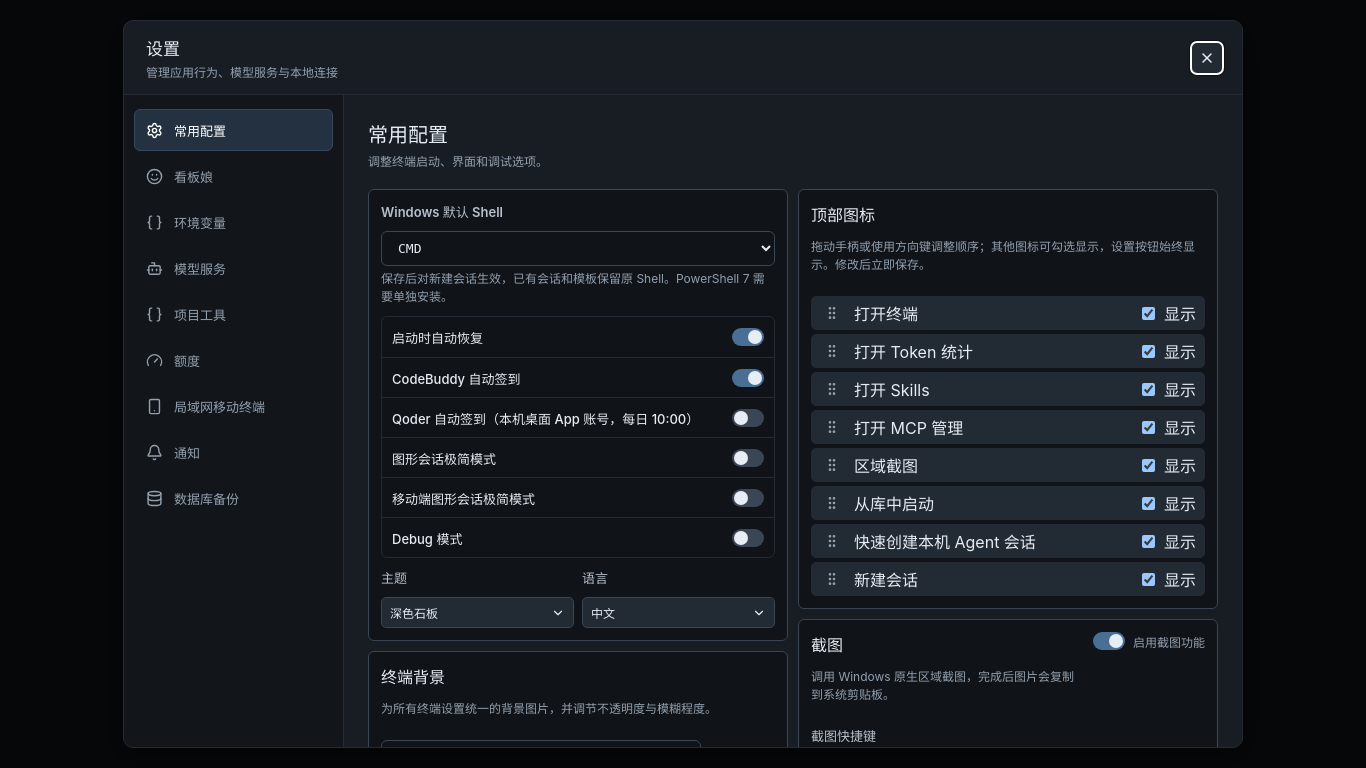
Test case: SettingsModal navigation › saves an environment draft before closing
Click the tab "环境变量": (234, 222) 134,201 -> 333,243
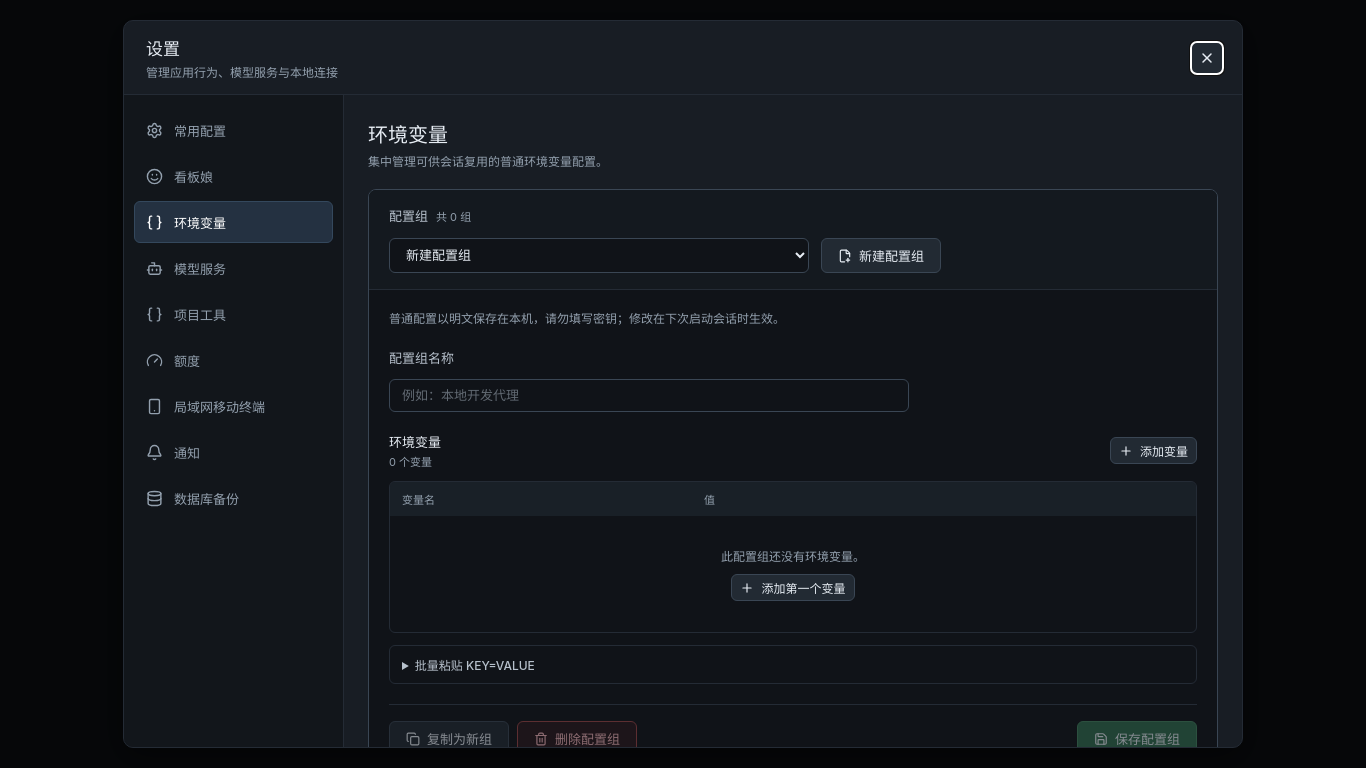
In the field labelled "配置组名称": (649, 396) 389,379 -> 909,412, type "开发"
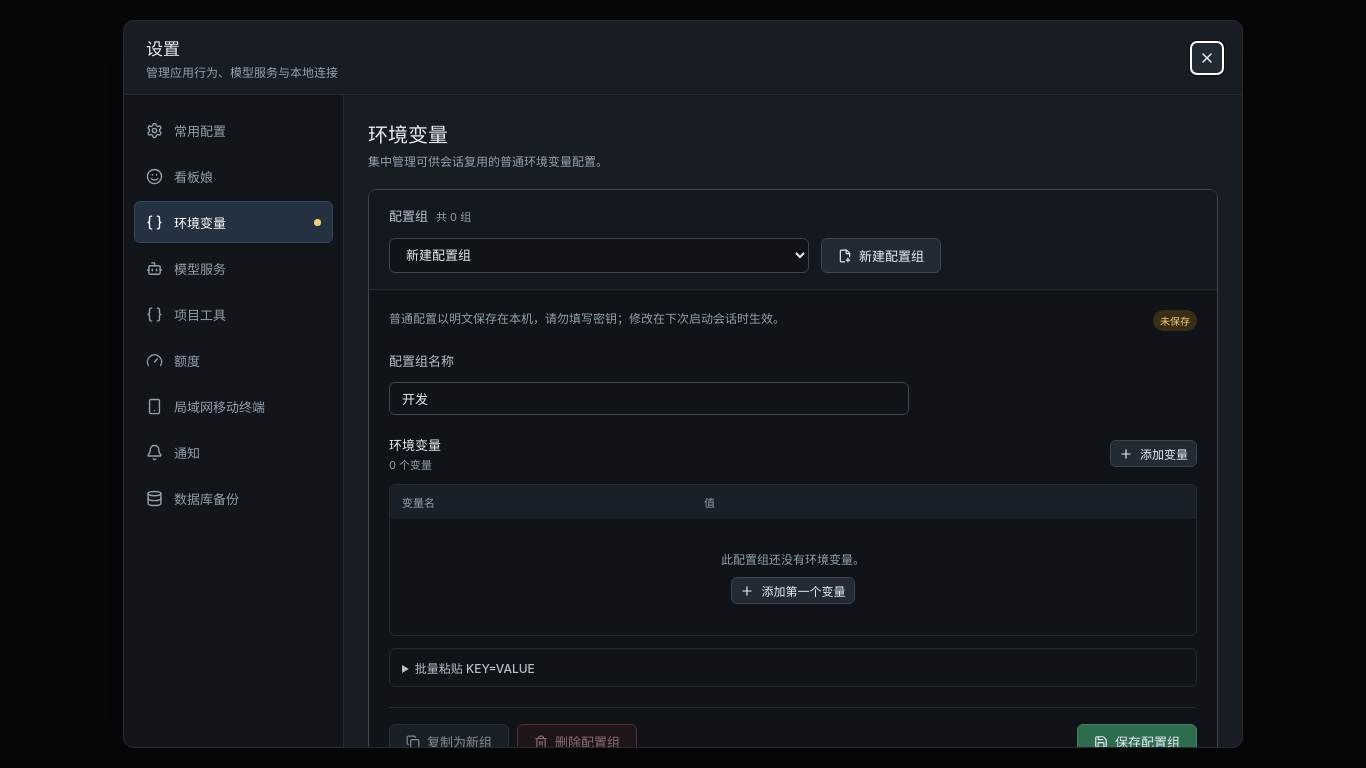
Click the button named "关闭": (1207, 58) 1190,40 -> 1224,74
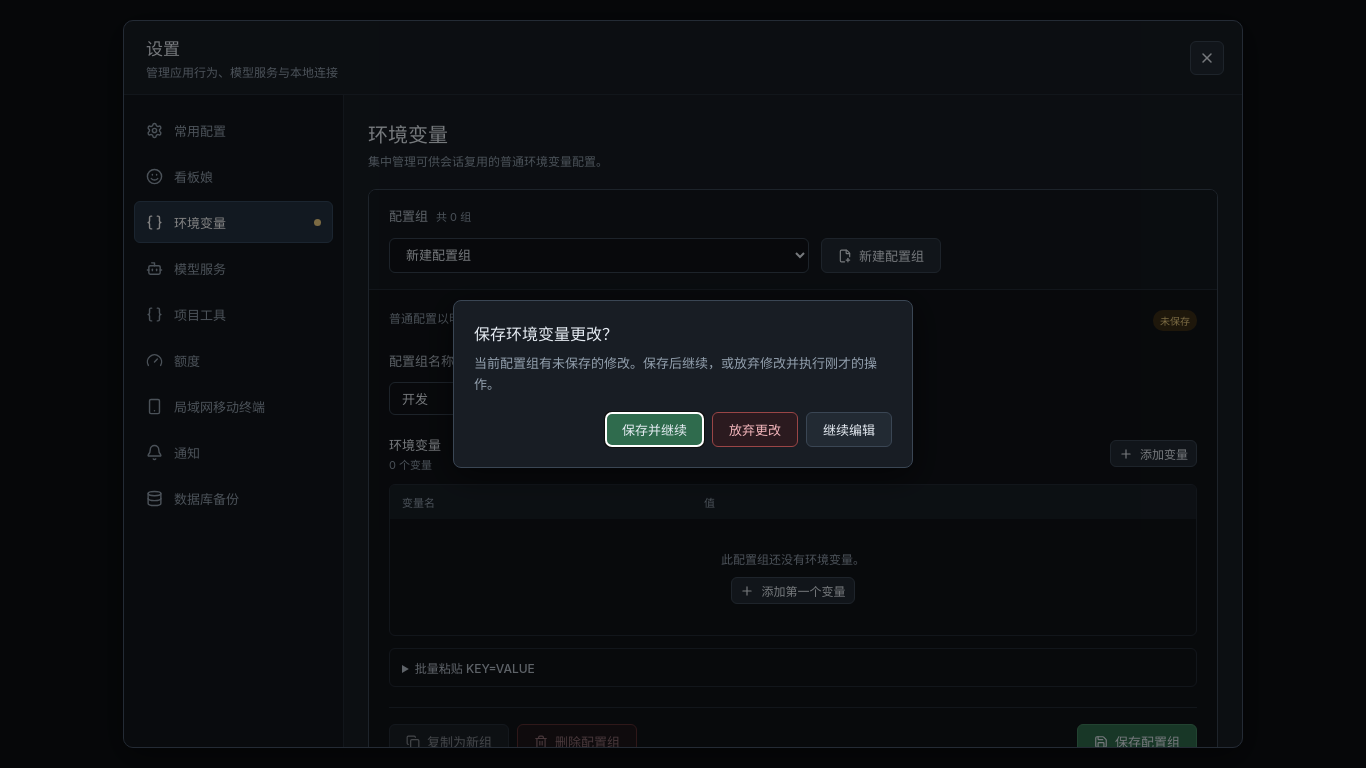
Click the button "保存并继续": (654, 429) 605,412 -> 704,447
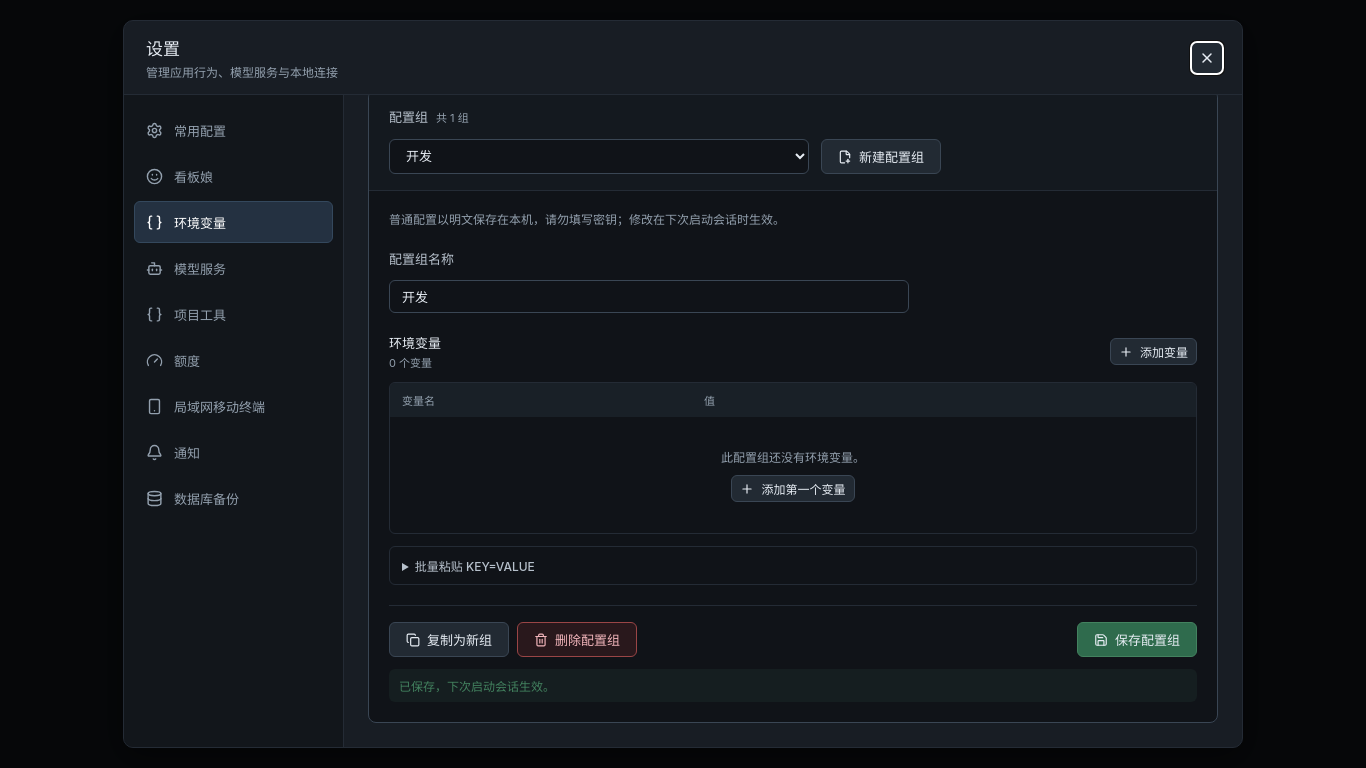
Now the text "已保存，下次启动会话生效。" is shown, box 389,669 -> 1197,702
